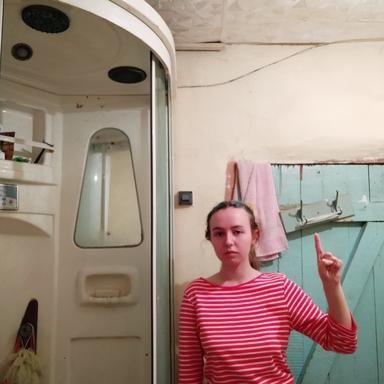one: (312, 231, 344, 285)
